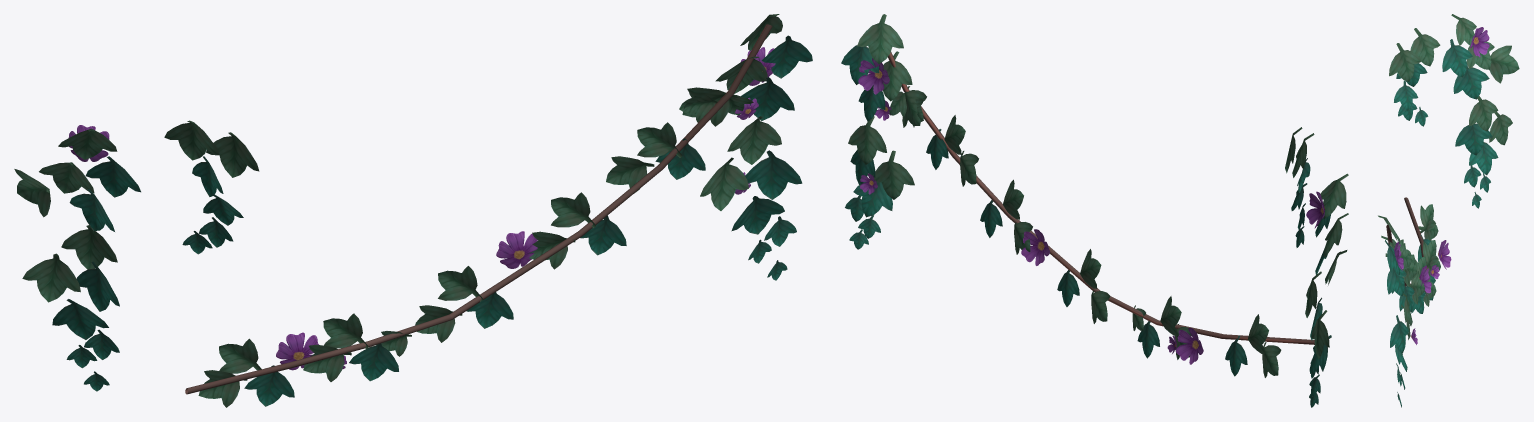
File: vines.fbx
3 renders of one model, left to right at view 1: azimuth 30°, elevation 25°; view 2: azimuth 150°, elevation 25°; view 3: azimuth 270°, elevation 25°, orthographic. The views are drawn at different scales.
Parts seen in each view (by area): view 1: pCube4 (×4), sweep1, pCube3 (×4), pCube5 (×3), pCube9 (×2), pCube17 (×2), pCube13 (×2), pCube15 (×2), pCube14 (×2), pCube18, Flower6, pCube29 (+12 smaller); view 2: sweep1, pCube16 (×2), pCube3 (×2), pCube4 (×2), pCube15, pCube9, pCube17, Flower3, Flower5, Flower6, pCube13, pCube14 (+12 smaller); view 3: pCube5 (×4), pCube4 (×3), pCube3 (×3), pCube13 (×2), pCube17 (×2), pCube14 (×2), pCube9 (×2), pCube16, pCube10 (×2), Flower4, pCube15, sweep1 (+10 smaller).
Boxes of the visible parts, x1,y1,x2,y2 form: pCube4 (×4): (61, 116, 781, 269); sweep1: (185, 24, 772, 394); pCube3 (×4): (22, 120, 748, 302); pCube5 (×3): (77, 150, 802, 311); pCube9 (×2): (52, 196, 784, 339); pCube17 (×2): (85, 35, 812, 197); pCube13 (×2): (69, 77, 794, 231); pCube15 (×2): (39, 56, 767, 193); pCube14 (×2): (14, 87, 737, 217); pCube18: (637, 122, 682, 157); Flower6: (496, 231, 537, 268); pCube29: (438, 266, 482, 301); sweep1: (888, 52, 1314, 344); pCube16 (×2): (857, 14, 1348, 218); pCube3 (×2): (873, 150, 1329, 358); pCube4 (×2): (848, 116, 1023, 219); pCube15: (883, 51, 912, 101); pCube9: (853, 182, 892, 217); pCube17: (841, 45, 879, 84); Flower3: (858, 58, 889, 94); Flower5: (1176, 328, 1203, 364); Flower6: (1021, 229, 1050, 265); pCube13: (858, 85, 885, 121); pCube14: (902, 86, 926, 127); pCube5 (×4): (1390, 63, 1492, 353); pCube4 (×3): (1389, 43, 1498, 325); pCube3 (×3): (1409, 28, 1512, 304); pCube13 (×2): (1387, 61, 1489, 296); pCube17 (×2): (1385, 39, 1472, 274); pCube14 (×2): (1385, 45, 1519, 277); pCube9 (×2): (1394, 80, 1498, 175); pCube16: (1451, 14, 1476, 46); pCube10 (×2): (1398, 102, 1481, 187); Flower4: (1470, 27, 1489, 57); pCube15: (1467, 41, 1494, 69); sweep1: (1386, 197, 1427, 286).
Bounding box in the file's own units: 5.01 × 2.15 × 1.32.
